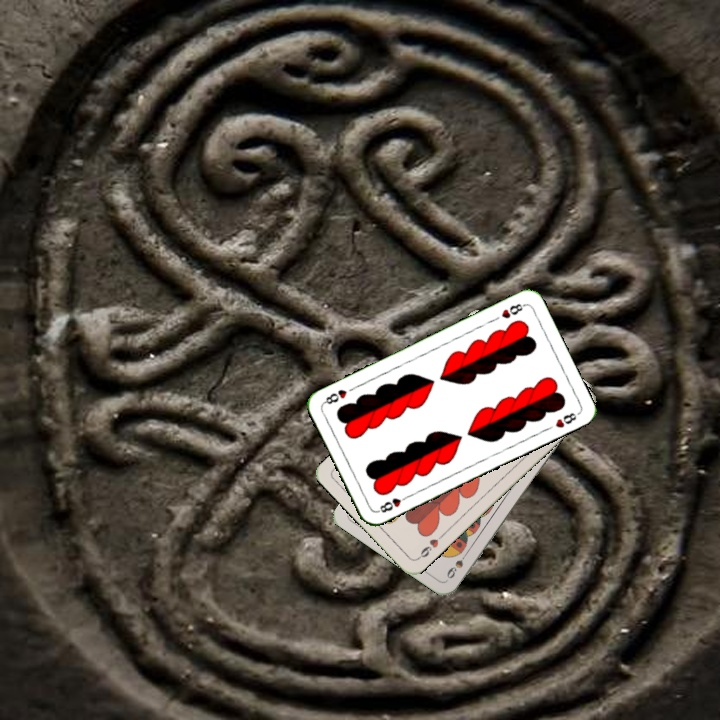H8: (373, 491, 412, 515), (497, 299, 528, 321)
H9: (413, 535, 441, 562)
S9: (442, 546, 471, 581)
